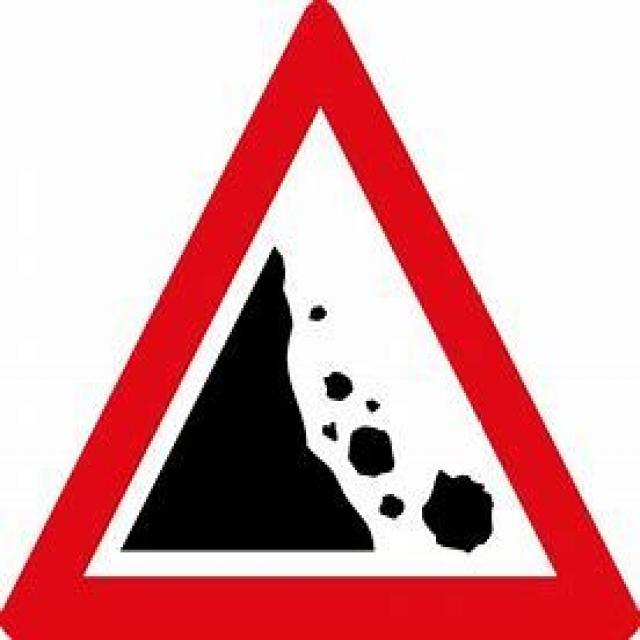FALLING_ROCKS: (0, 0, 637, 637)
